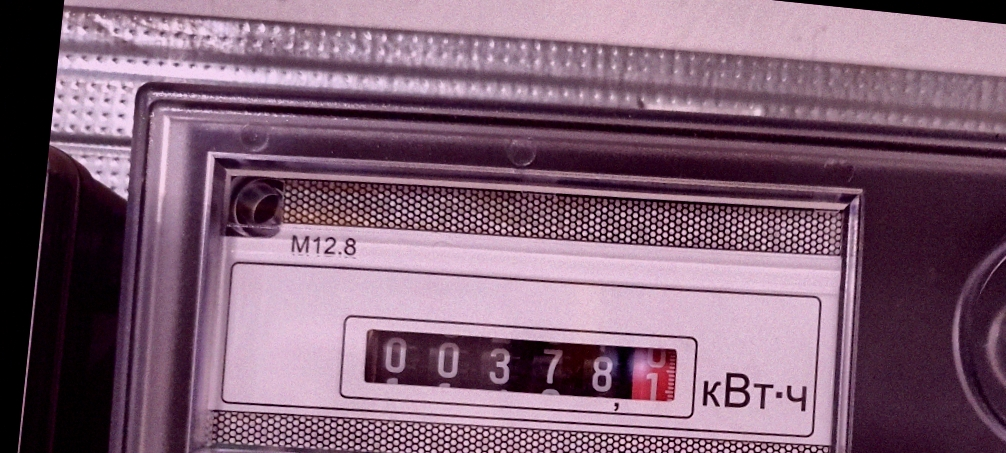0: (380, 332, 411, 375), (433, 338, 462, 379), (644, 345, 668, 369)
1: (640, 368, 662, 401)
3: (484, 344, 514, 387)
7: (537, 344, 564, 385)
8: (587, 352, 615, 394)
screen: (340, 297, 699, 425)
